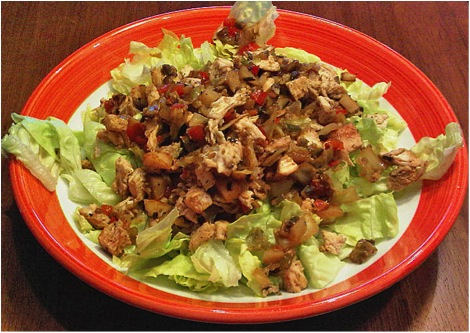chopped lettuce: (145, 224, 377, 284), (23, 110, 118, 197)
